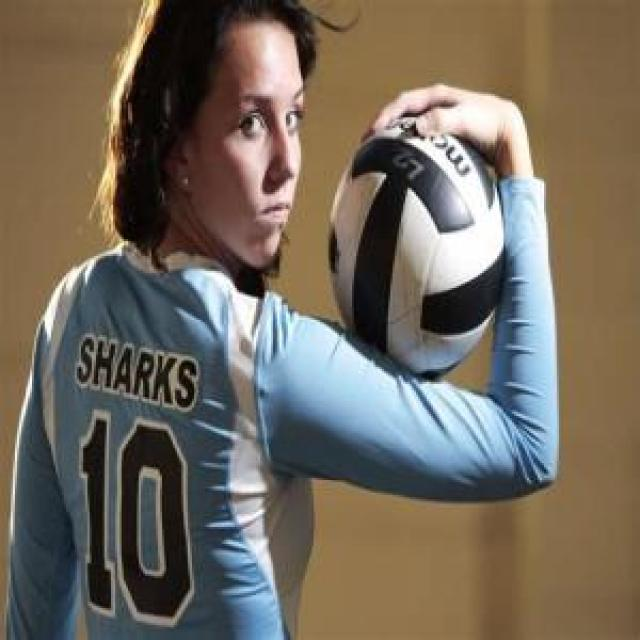volleyball: (327, 124, 506, 382)
